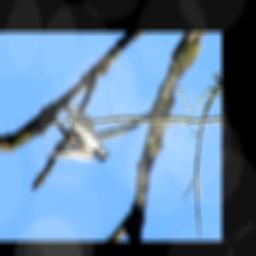Swallow: (47, 101, 111, 163)
